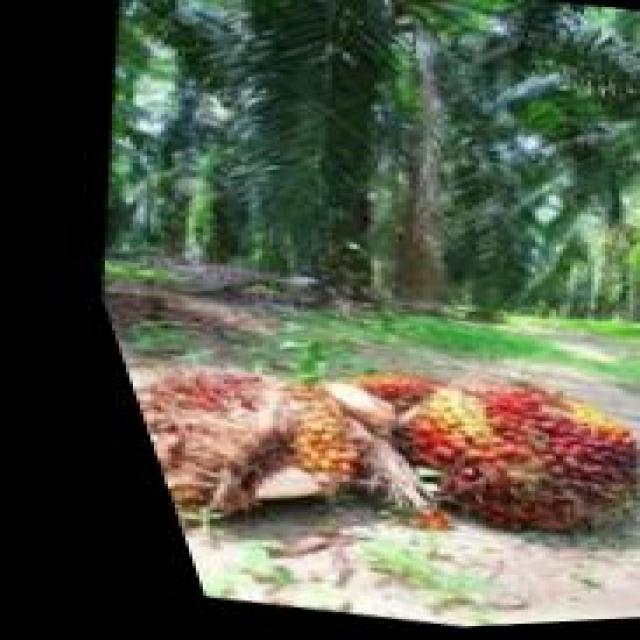Ripefruit: (318, 362, 640, 562), (96, 344, 359, 519)
